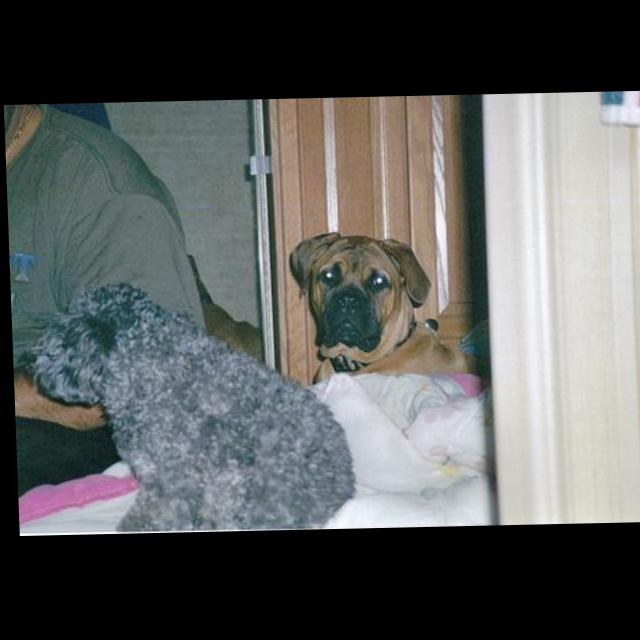bullmastiff: (288, 229, 491, 400)
other_dog_breed: (10, 279, 356, 535)
person: (4, 102, 211, 499)
